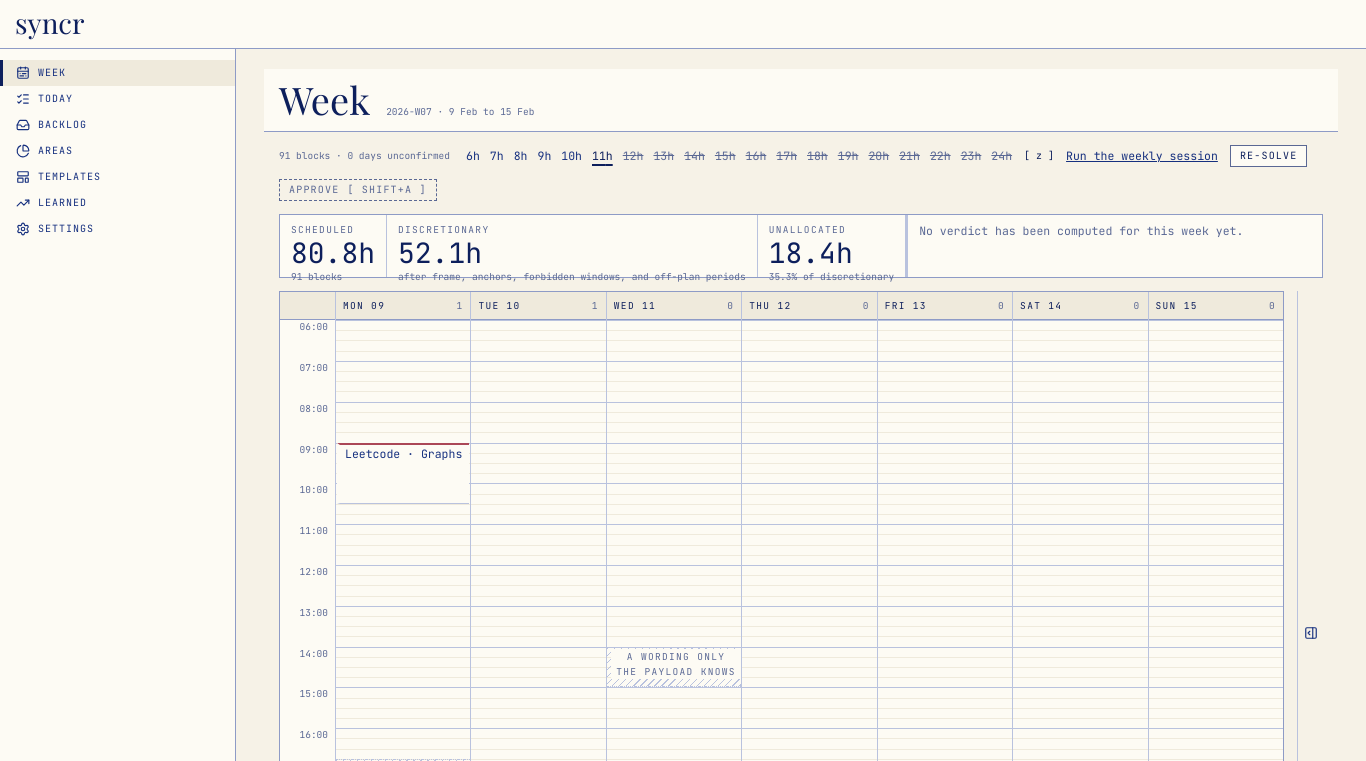
Scenario: a preference the api refuses › keeps the task, closes the form, and names the preferred time as the write that did not land
This screenshot has width=1366, height=761.
Click the button "a wording only the payload knows". click: point(676, 664)
box: x1=611 y1=649 x2=741 y2=679
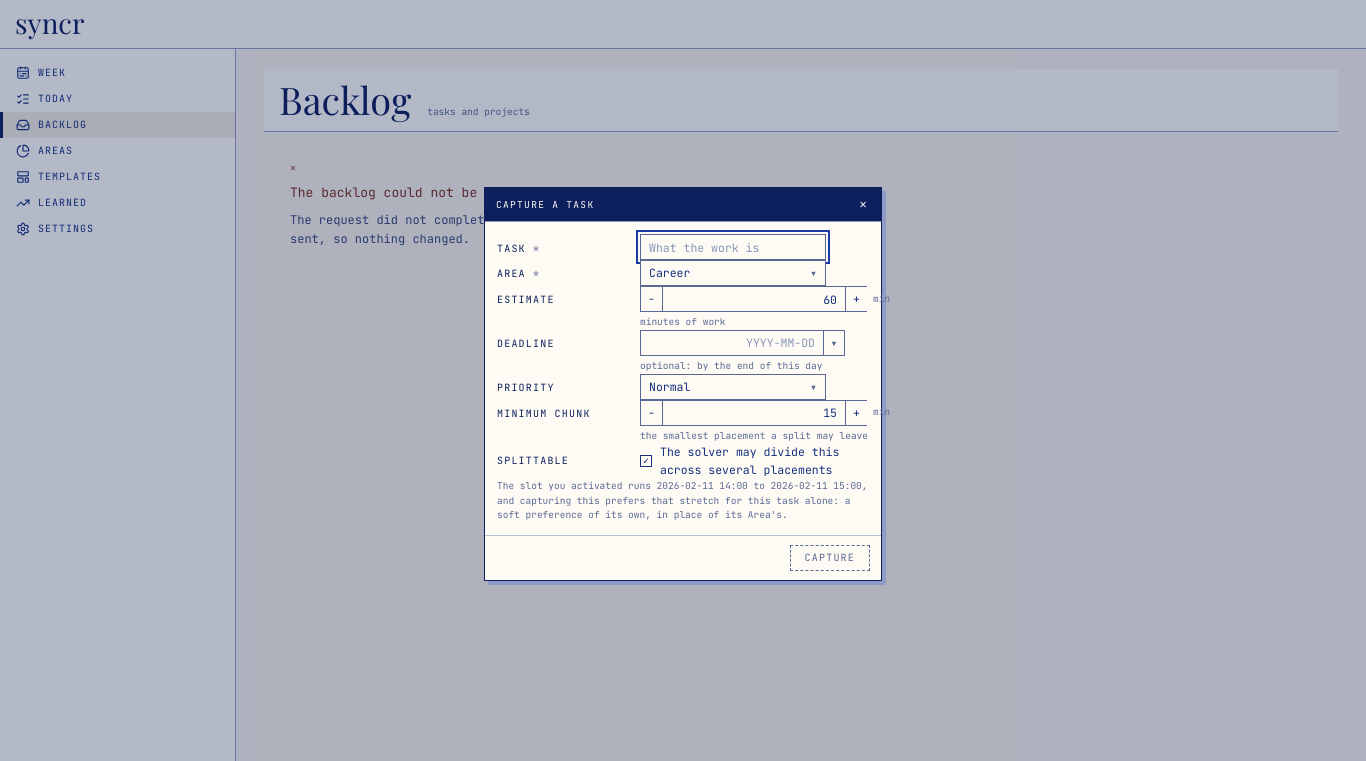
Type "Kontron take-home" into the field labelled "Task *". click: point(733, 247)
box: x1=640 y1=234 x2=826 y2=260
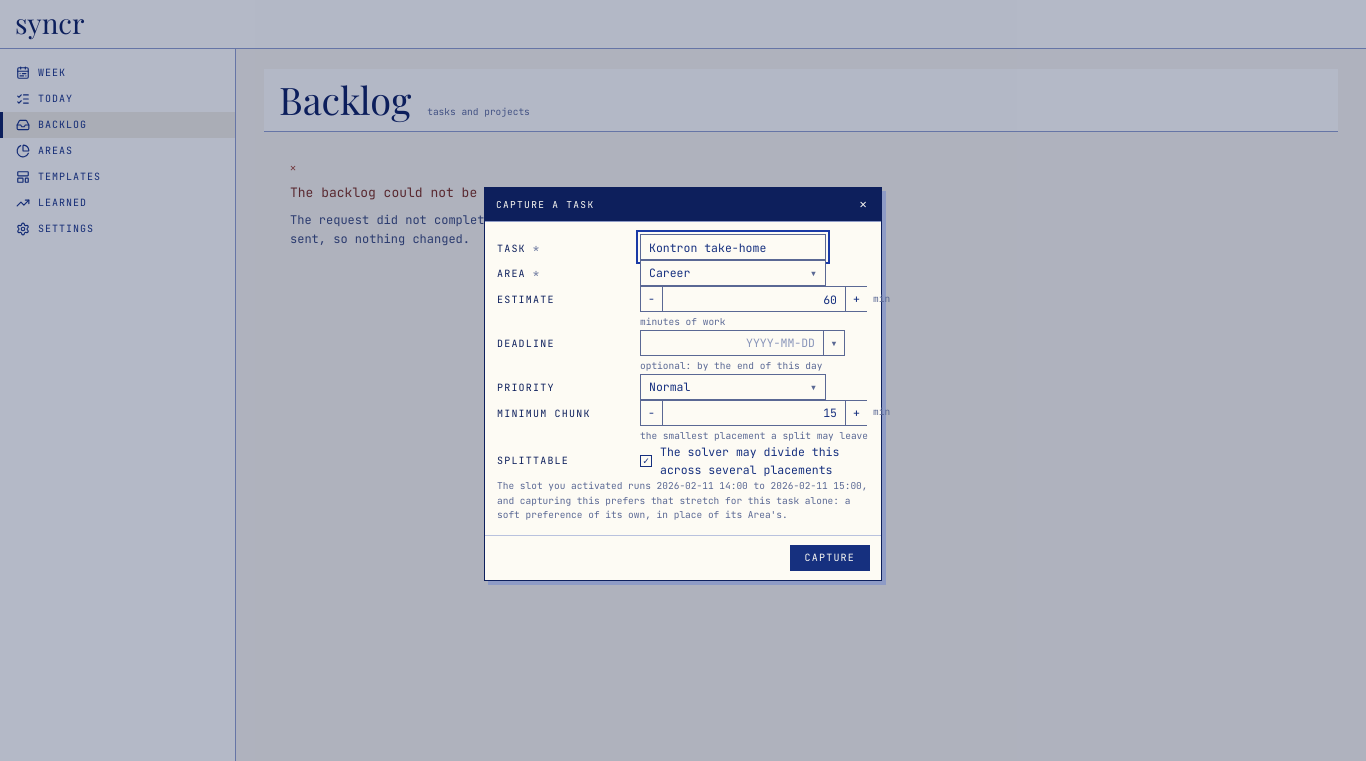
Click the button "Capture". click: point(830, 558)
box: x1=790 y1=545 x2=870 y2=571
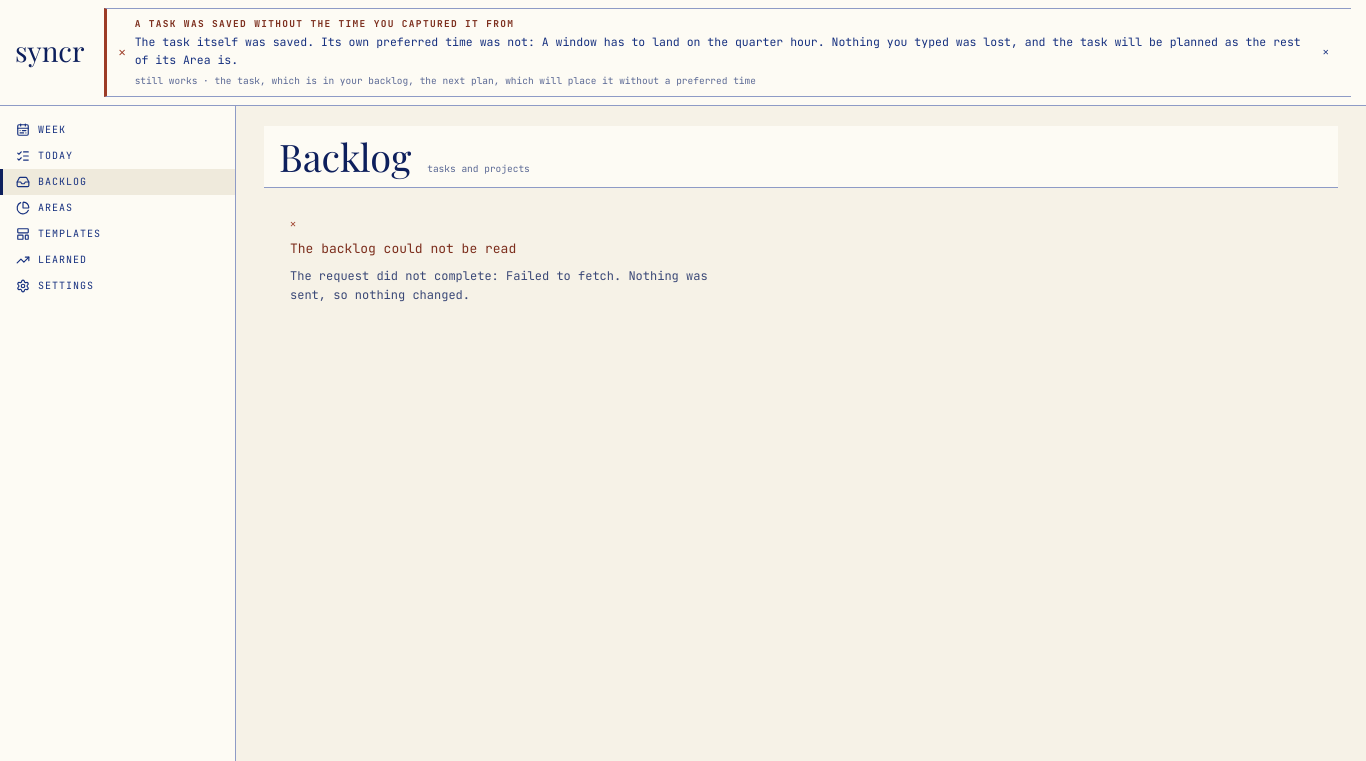
expect the message with class "notice--banner" shows "The task itself was saved.": met, box x1=135 y1=34 x2=1301 y2=67
expect the message with class "notice--banner" shows "A window has to land on the quarter hour.": met, box x1=135 y1=34 x2=1301 y2=67
expect the heading "Capture a task" is gone: met
